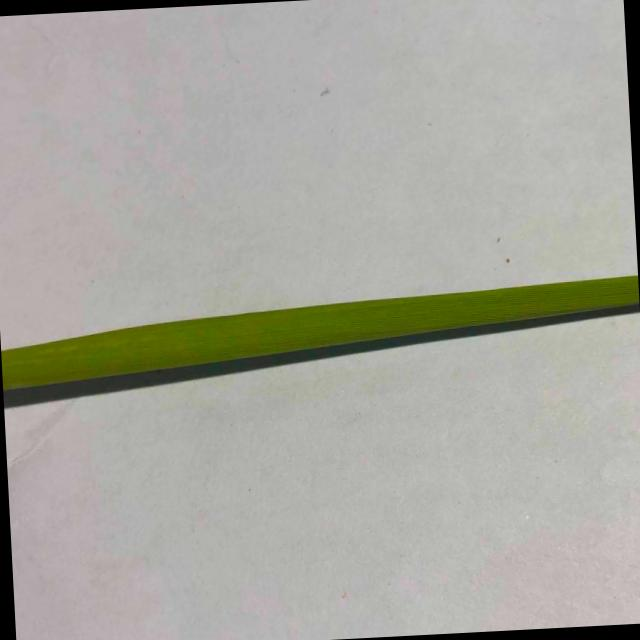Rice_Healthy: (1, 275, 639, 392)
